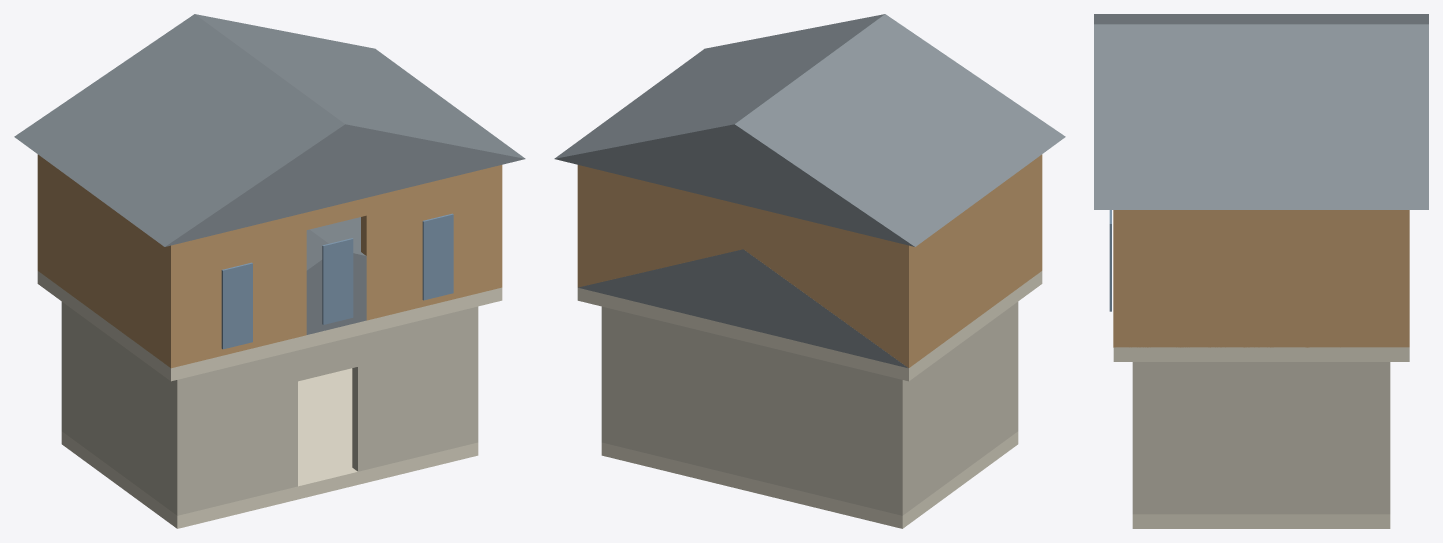
Rendered from guildhall.glb.
3 views of the same model, side by side, from view 1: azimuth 30°, elevation 25°; view 2: azimuth 150°, elevation 25°; view 3: azimuth 270°, elevation 25° (orthographic). The views are drawn at different scales.
Visible parts, largest first — view 1: guildhall; view 2: guildhall; view 3: guildhall.
Part boxes in pixels (left/top/right/bottom): guildhall: left=14, top=14, right=525, bottom=528; guildhall: left=554, top=14, right=1065, bottom=528; guildhall: left=1094, top=14, right=1428, bottom=528.
Bounding box in the file's own units: 7.2 × 7.25 × 5.2.
